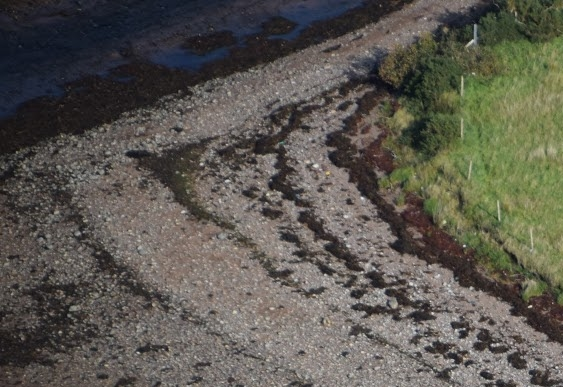white_in_green: (110, 129, 169, 177)
